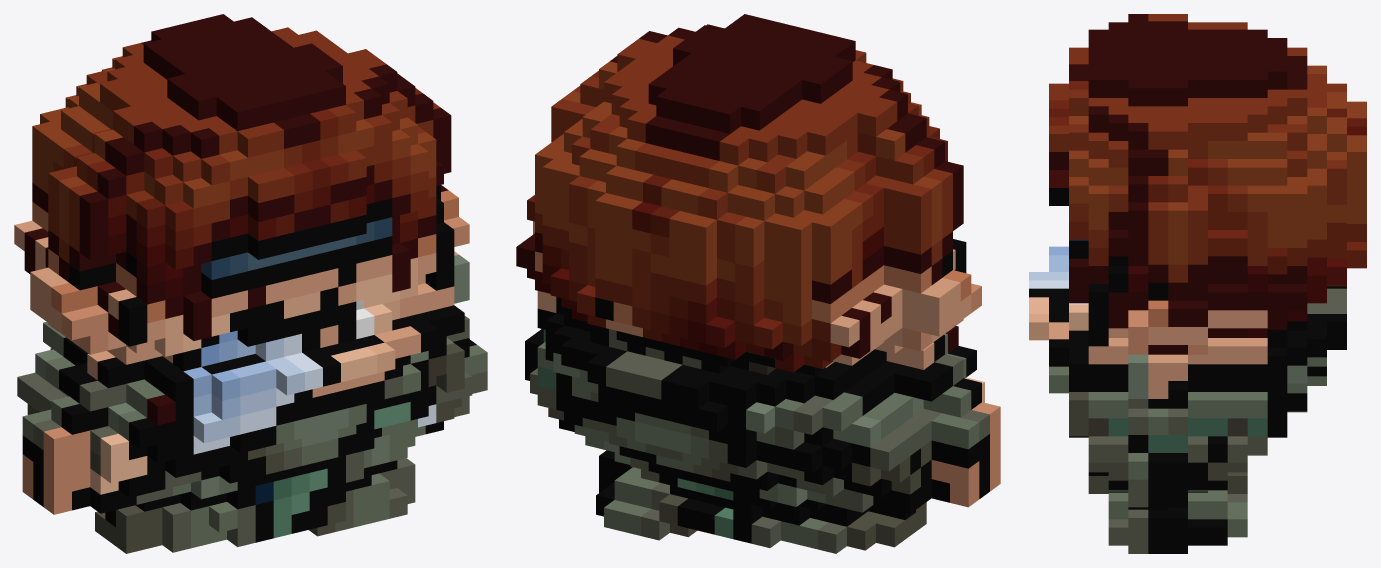
Rendered from Icon_105_01.obj.
The picture shows the model from 3 angles, left to right: view 1: azimuth 30°, elevation 25°; view 2: azimuth 150°, elevation 25°; view 3: azimuth 270°, elevation 25°; orthographic projection. The views are drawn at different scales.
Bounding box in the file's own units: 2.4 × 2.4 × 1.7.
